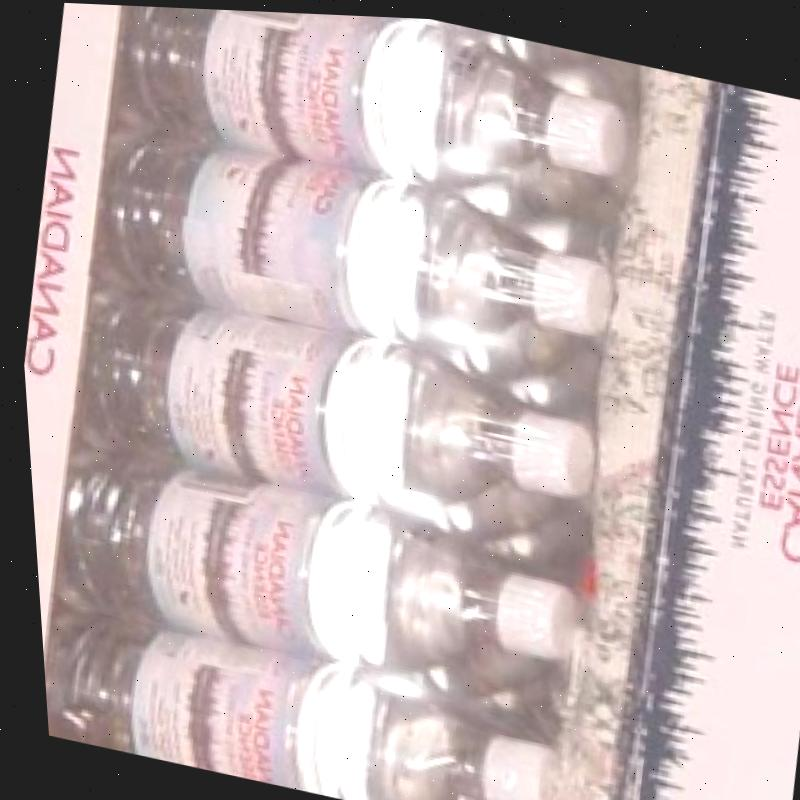botella: (30, 425, 583, 706), (54, 265, 606, 534), (84, 113, 625, 374), (112, 4, 655, 223), (31, 597, 550, 800), (440, 308, 616, 420), (413, 471, 593, 571), (399, 623, 558, 733), (463, 146, 621, 255), (510, 32, 654, 104)
